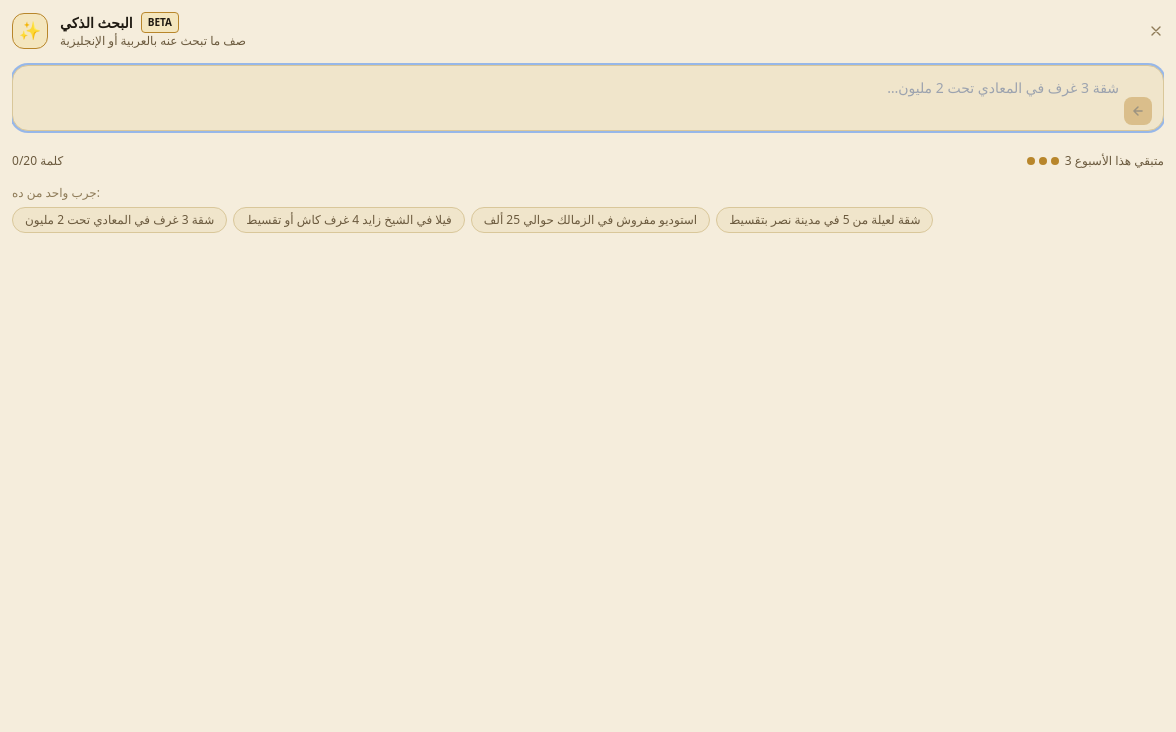
Test: AISearchPanel › renders Arabic fallback notice
The image size is (1176, 732).
Type "شقة 3 غرف في المعادي تحت 2 مليون" into the text box with placeholder "شقة 3 غرف في المعادي تحت 2 مليون…" at (588, 98), box [12, 65, 1164, 131]
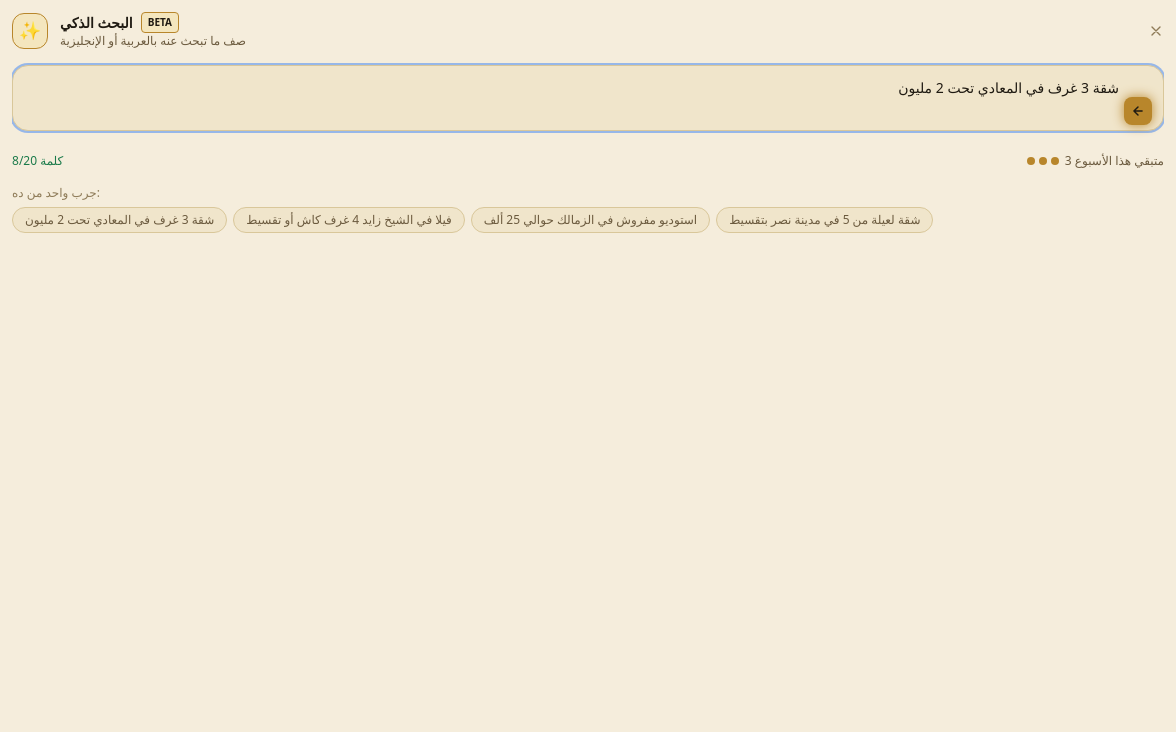
Press Enter
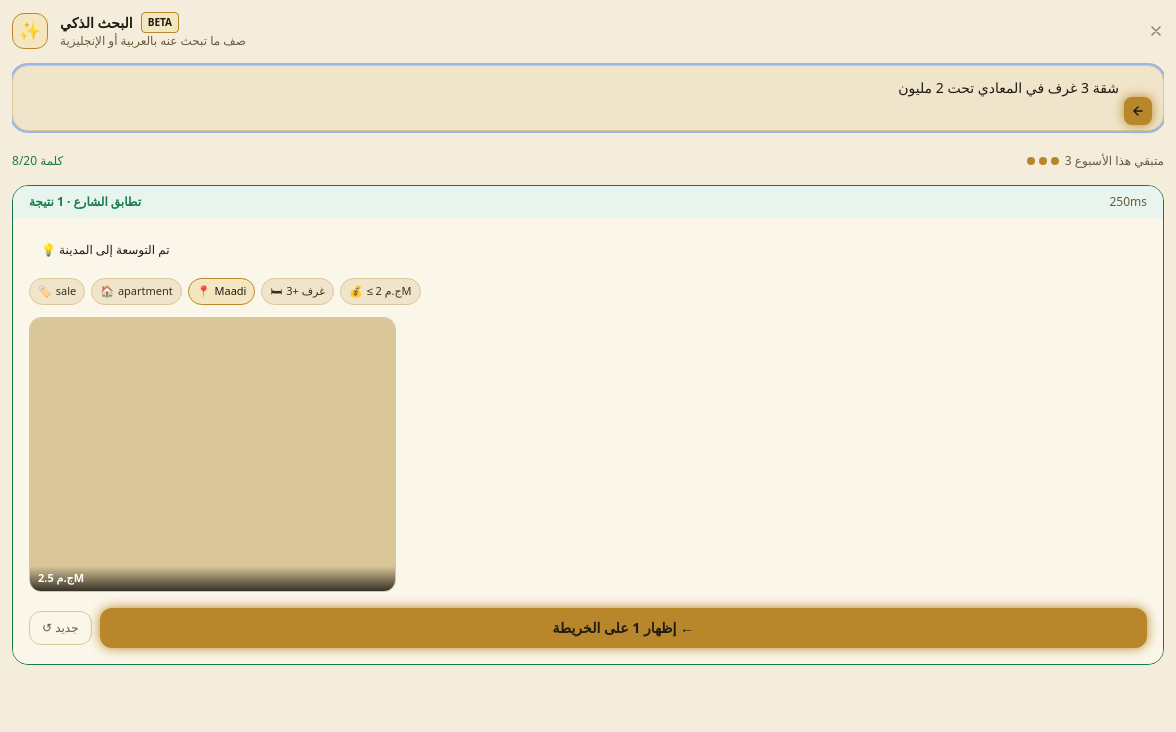
Expected: the text "💡 تم التوسعة إلى المدينة" is shown, [41, 241, 170, 258]
